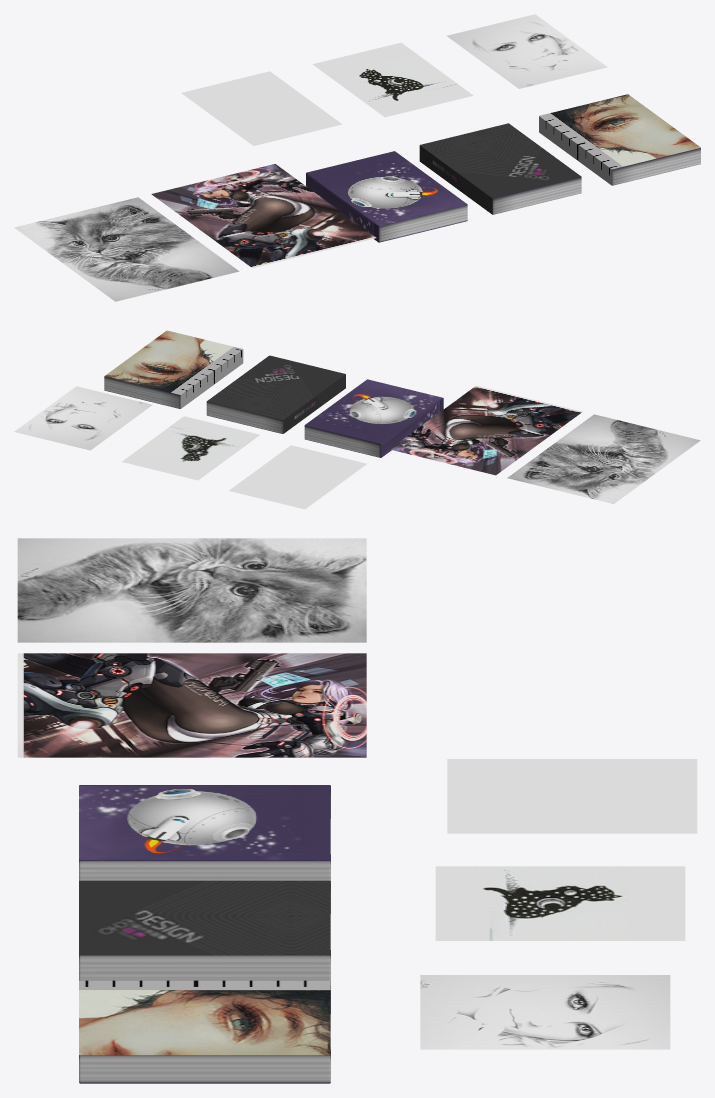
Rendered from book_02.FBX.
3 renders of one model, top to bottom at view 1: azimuth 30°, elevation 25°; view 2: azimuth 150°, elevation 25°; view 3: azimuth 270°, elevation 25°, orthographic. The views are drawn at different scales.
Parts seen in each view (by area): view 1: Plane002, Plane001, book02, book003, calculator_box006, Plane005, Plane004, Plane006; view 2: Plane002, Plane001, book02, book003, calculator_box006, Plane006, Plane004, Plane005; view 3: Plane001, Plane002, book003, book02, calculator_box006, Plane004, Plane005, Plane006.
Part boxes in pixels (bbox=[...]): Plane002: bbox=[14, 197, 239, 301]; Plane001: bbox=[151, 164, 376, 268]; book02: bbox=[419, 123, 581, 214]; book003: bbox=[539, 94, 700, 185]; calculator_box006: bbox=[306, 151, 467, 242]; Plane005: bbox=[181, 71, 342, 145]; Plane004: bbox=[312, 42, 473, 117]; Plane006: bbox=[447, 14, 607, 88]; Plane002: bbox=[507, 414, 700, 503]; Plane001: bbox=[389, 385, 582, 475]; book02: bbox=[206, 355, 345, 433]; book003: bbox=[104, 330, 243, 408]; calculator_box006: bbox=[304, 379, 443, 457]; Plane006: bbox=[14, 386, 152, 450]; Plane004: bbox=[122, 416, 259, 480]; Plane005: bbox=[229, 445, 366, 509]; Plane001: bbox=[17, 653, 366, 757]; Plane002: bbox=[17, 538, 366, 642]; book003: bbox=[79, 980, 330, 1083]; book02: bbox=[79, 880, 330, 980]; calculator_box006: bbox=[79, 785, 330, 880]; Plane004: bbox=[435, 866, 685, 940]; Plane005: bbox=[447, 759, 697, 833]; Plane006: bbox=[420, 975, 670, 1049].
Bounding box in the file's own units: 146 × 5.16 × 81.8.
